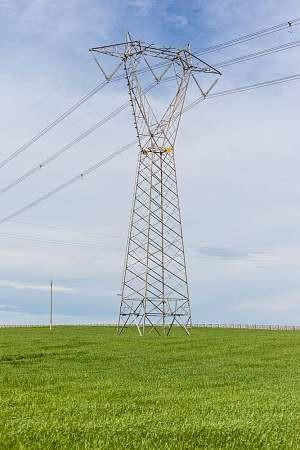power_tower: (85, 27, 224, 340)
